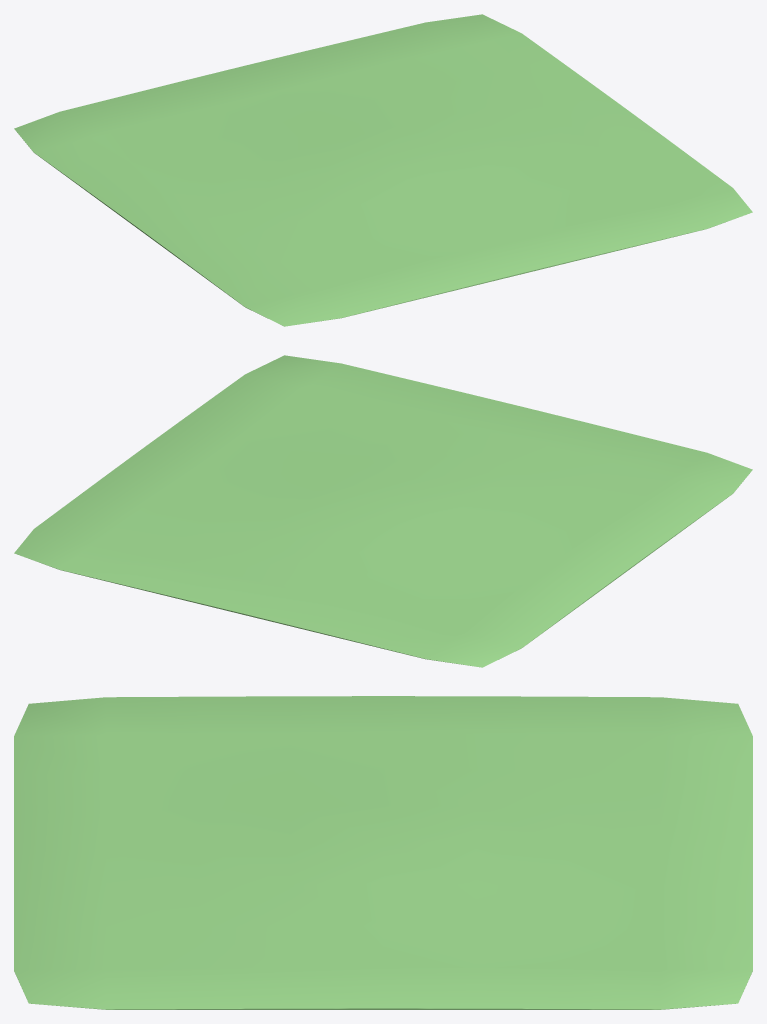
The model's file is GrassPad.fbx.
3 views of the same model, one above another, from view 1: azimuth 30°, elevation 25°; view 2: azimuth 150°, elevation 25°; view 3: azimuth 270°, elevation 25° (orthographic). The views are drawn at different scales.
Visible parts, largest first — view 1: GrassPad; view 2: GrassPad; view 3: GrassPad.
Part boxes in pixels (x1,y1,x2,y2): GrassPad: (14,14,752,326); GrassPad: (14,355,752,667); GrassPad: (14,696,752,1009).
Bounding box in the file's own units: 200 × 4 × 200.
